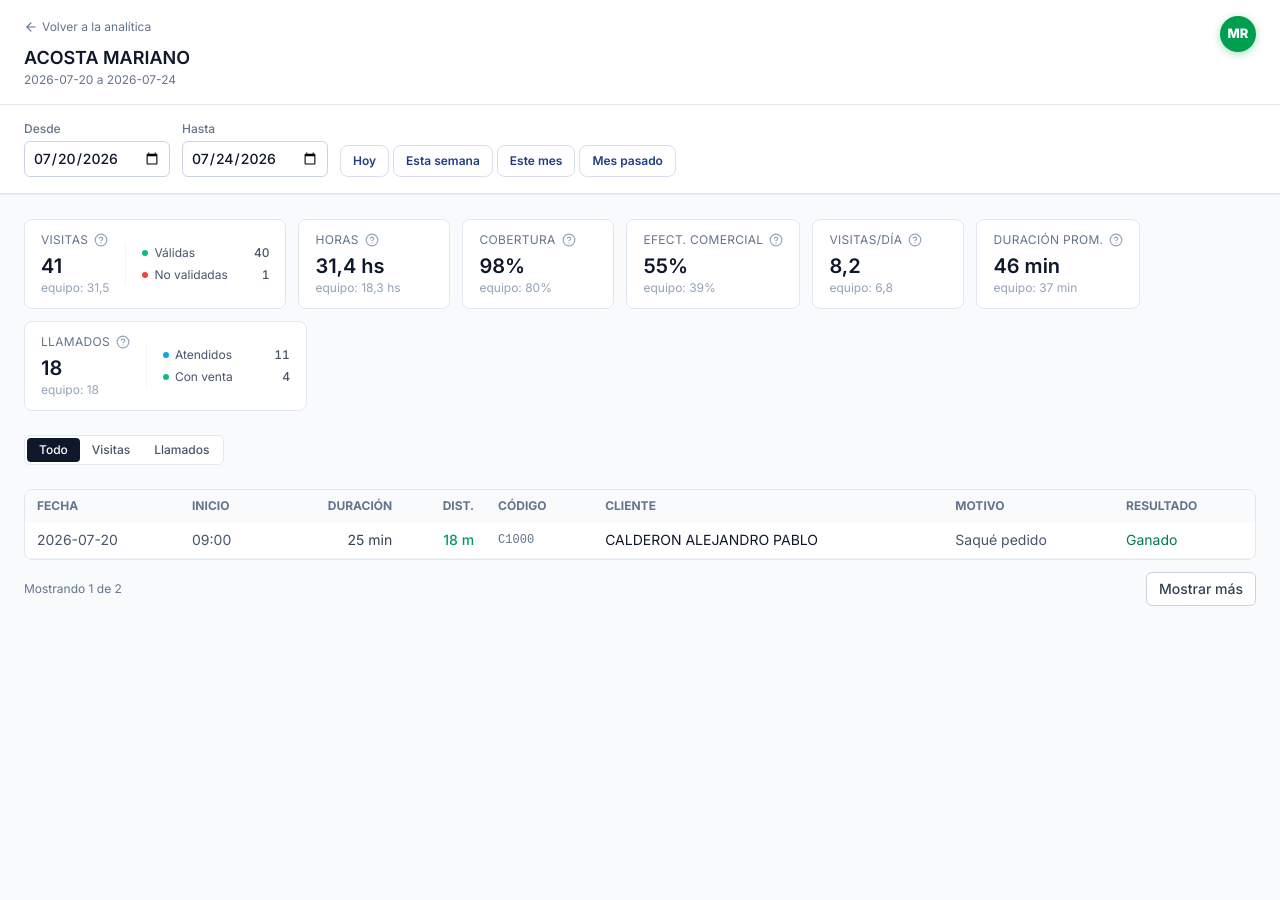
Scenario: no corta el rango en la primera página: "Mostrar más" trae la siguiente
The width and height of the screenshot is (1280, 900).
expect the text "Mostrando 1 de 2" is shown: met, box [24,581,122,597]
Click the button "Mostrar más" at [1201, 589], box [1146,572,1256,606]
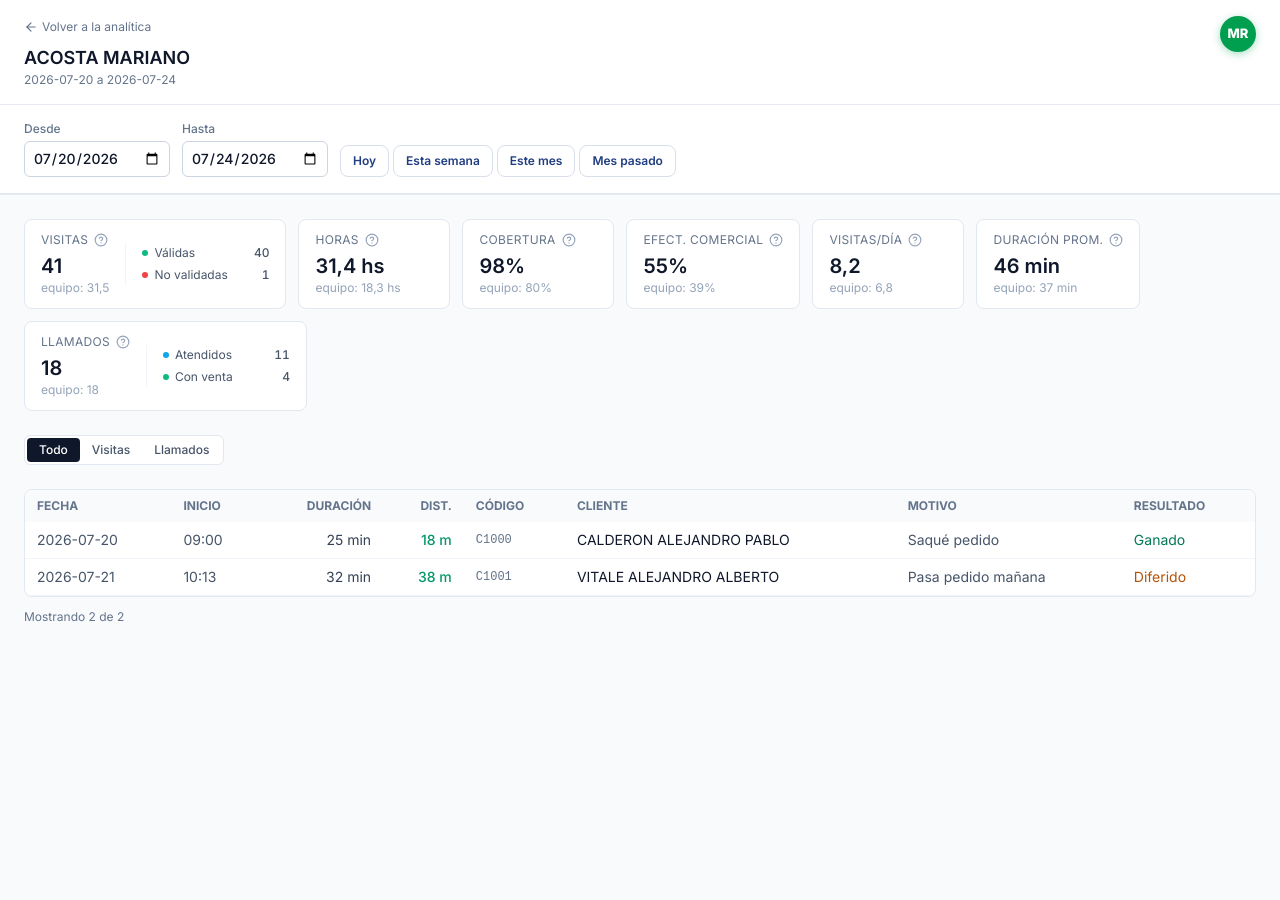
expect the text "Mostrando 2 de 2" is shown: met, box [24,609,124,625]
expect the text "VITALE ALEJANDRO ALBERTO" is shown: met, box [565,558,896,596]
expect the button "Mostrar más" is gone: met
